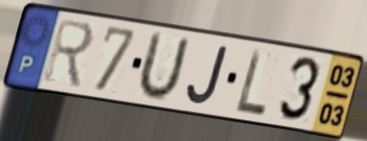3: (276, 55, 324, 124)
7: (96, 23, 139, 95)
J: (184, 43, 231, 107)
L: (235, 46, 269, 118)
R: (41, 16, 97, 92)
U: (133, 29, 193, 103)
